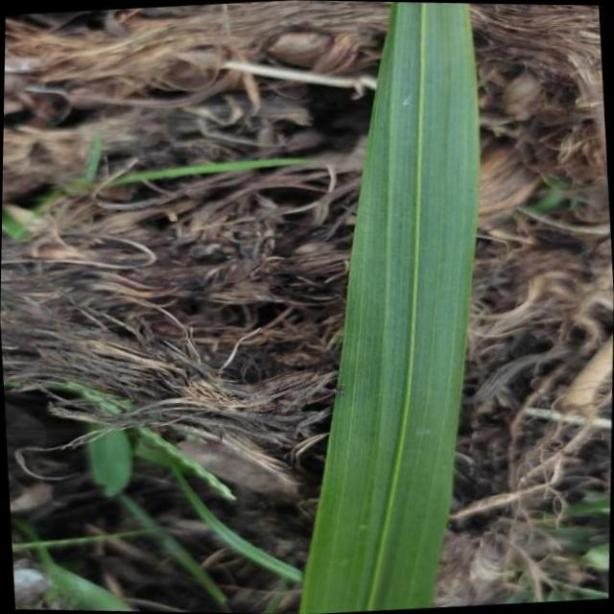Healthy: (299, 0, 478, 614)
